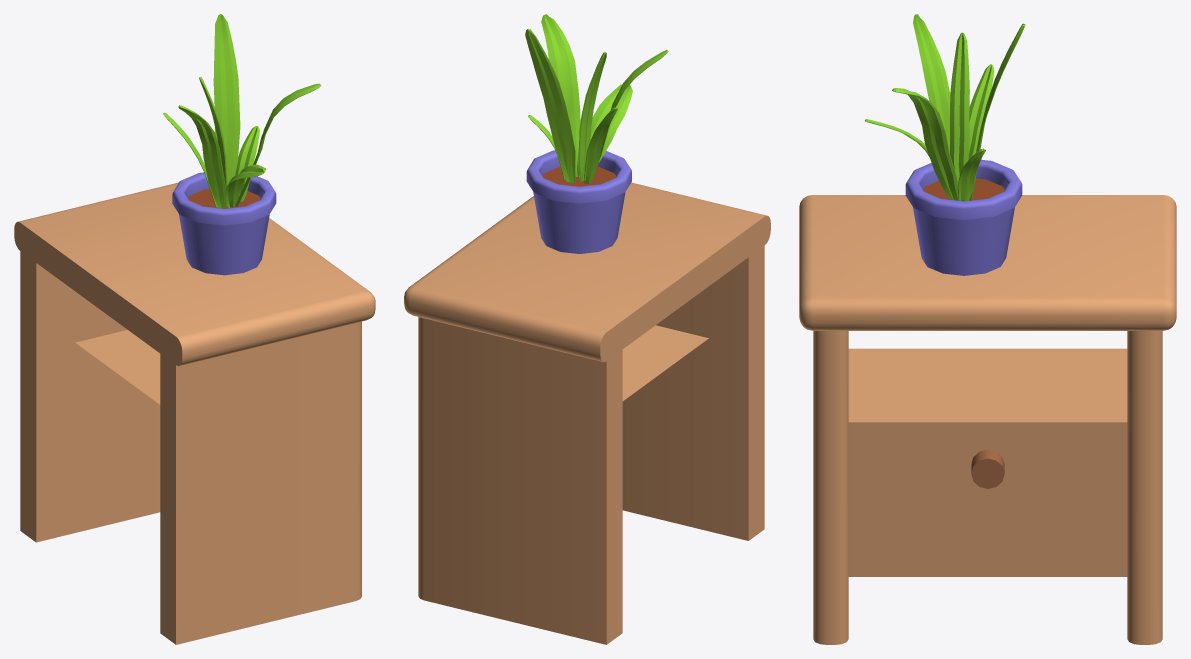
Rendered from Bed Table.fbx.
The picture shows the model from 3 angles, left to right: view 1: azimuth 30°, elevation 25°; view 2: azimuth 150°, elevation 25°; view 3: azimuth 270°, elevation 25°; orthographic projection. The views are drawn at different scales.
Parts seen in each view (by area): view 1: Cube.079, Cube.078, Cylinder.032, Circle.024, Plane.059, Circle.026, Circle.025, Circle.030, Circle.028, Circle.029; view 2: Cube.079, Cube.078, Cylinder.032, Plane.059, Circle.024, Circle.025, Circle.029, Circle.028, Circle.027, Circle.026; view 3: Plane.059, Cube.078, Cube.079, Cylinder.032, Circle.029, Circle.025, Circle.026, Circle.027, Cylinder.034, Circle.024, Circle.030.
Part boxes in pixels (x1,y1,x2,y2): Cube.079: [20, 251, 361, 644]; Cube.078: [14, 182, 375, 366]; Cylinder.032: [172, 172, 276, 275]; Circle.024: [213, 14, 240, 184]; Plane.059: [75, 330, 160, 404]; Circle.026: [178, 105, 225, 208]; Circle.025: [235, 83, 321, 206]; Circle.030: [235, 126, 259, 201]; Circle.028: [225, 164, 265, 208]; Circle.029: [199, 77, 227, 206]; Cube.079: [418, 246, 764, 644]; Cube.078: [404, 182, 770, 361]; Cylinder.032: [526, 150, 631, 253]; Plane.059: [622, 325, 708, 400]; Circle.024: [525, 29, 575, 184]; Circle.025: [541, 14, 580, 176]; Circle.029: [578, 52, 606, 181]; Circle.028: [577, 84, 632, 177]; Circle.027: [584, 107, 617, 184]; Circle.026: [599, 50, 668, 161]; Plane.059: [848, 348, 1127, 576]; Cube.078: [799, 195, 1176, 330]; Cube.079: [813, 331, 1162, 644]; Cylinder.032: [905, 159, 1022, 275]; Circle.029: [950, 32, 969, 187]; Circle.025: [892, 88, 958, 200]; Circle.026: [913, 14, 950, 152]; Circle.027: [968, 64, 994, 159]; Cylinder.034: [971, 449, 1004, 488]; Circle.024: [969, 23, 1025, 200]; Circle.030: [958, 148, 985, 201].
Size of the model in its own units: 19.05 by 48.57 by 28.03.
